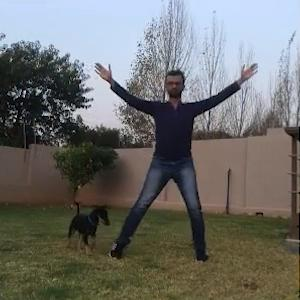takeoff: (97, 63, 260, 262)
